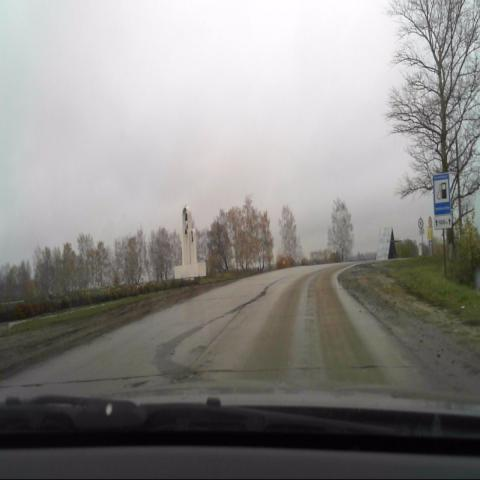8_2_1: (434, 216, 452, 229)
